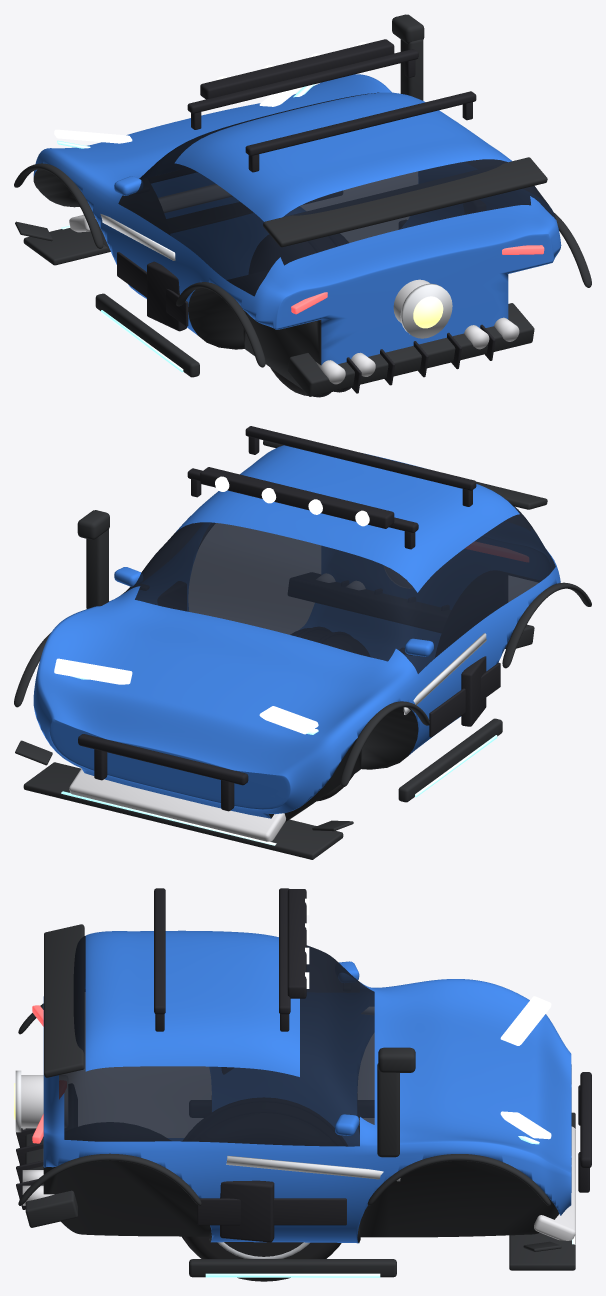
Rendered from bastion.glb.
3 views of the same model, one above another, from view 1: azimuth 30°, elevation 25°; view 2: azimuth 150°, elevation 25°; view 3: azimuth 270°, elevation 25° (orthographic). The views are drawn at different scales.
Parts seen in each view (by area): view 1: Body, Wheel; view 2: Body; view 3: Body, Wheel.
Boxes of the visible parts, x1=… form: Body: x1=14, y1=14, x2=591, y2=396; Wheel: x1=250, y1=235, x2=351, y2=397; Body: x1=14, y1=426, x2=591, y2=859; Body: x1=14, y1=888, x2=591, y2=1277; Wheel: x1=182, y1=1098, x2=344, y2=1281.
Bounding box in the file's own units: 1 × 0.899 × 1.39.
